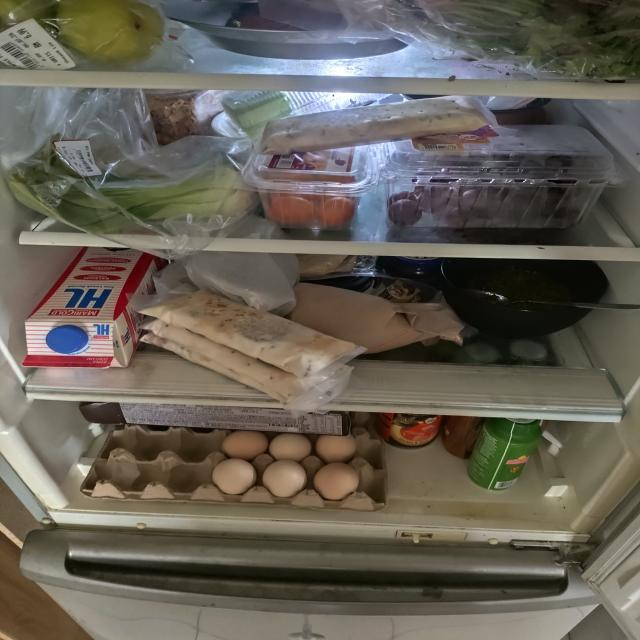apple: (56, 0, 166, 68)
egg: (80, 424, 388, 513)
grape: (388, 153, 584, 229)
pakchoy: (5, 153, 255, 234)
tempeh: (134, 289, 358, 406), (260, 95, 494, 157)
